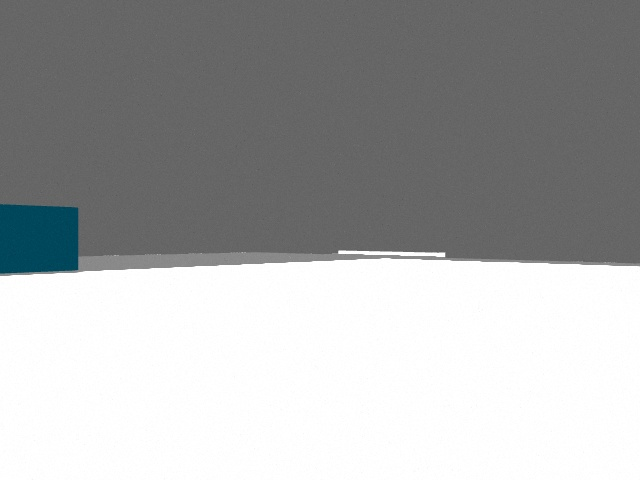blue_drop_zone: (0, 204, 78, 274)
